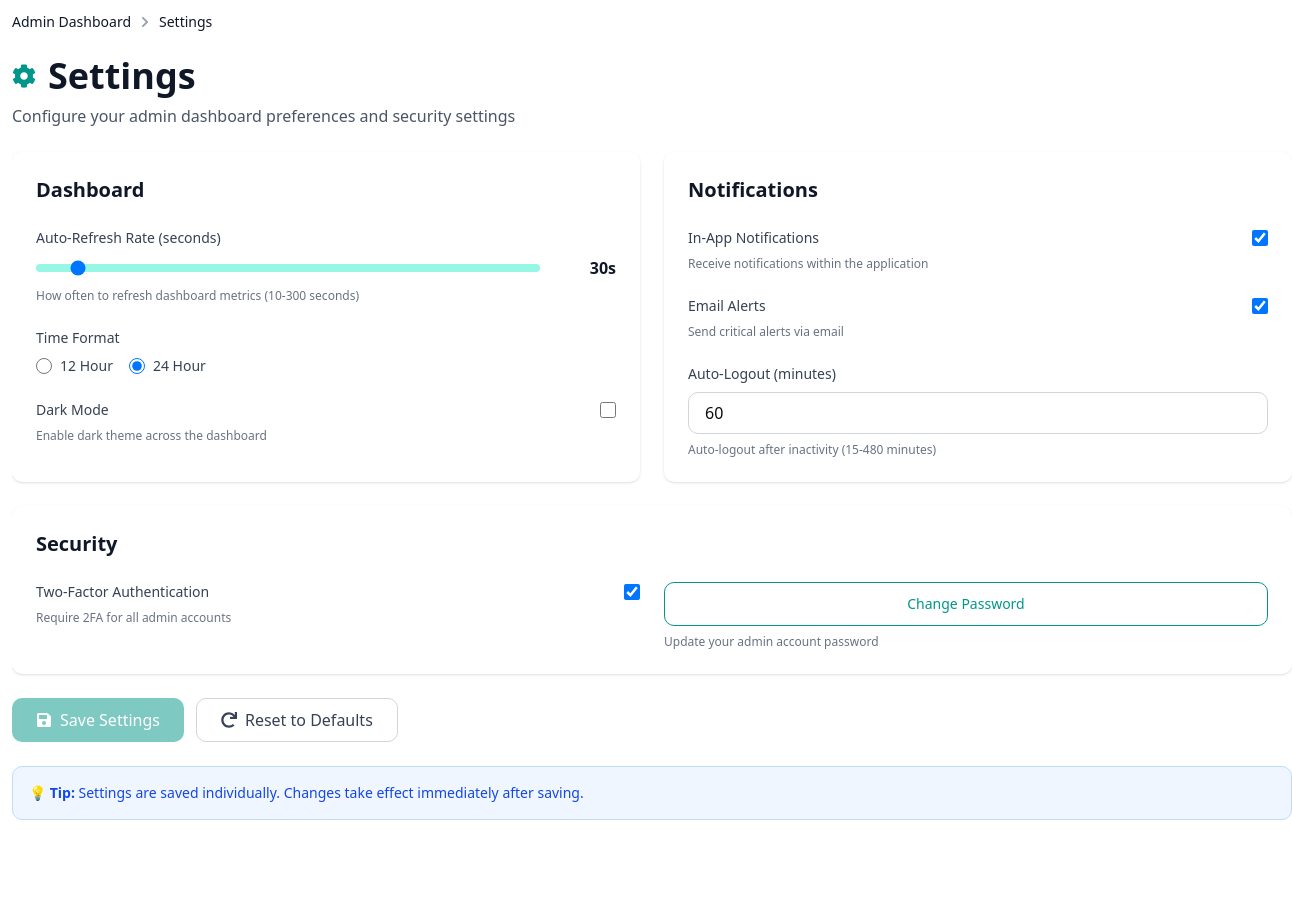
Test case: AdminSettings Component › Reset Functionality › reset button resets settings
Set the slider to "60": point(128, 268) [36,264,540,272]
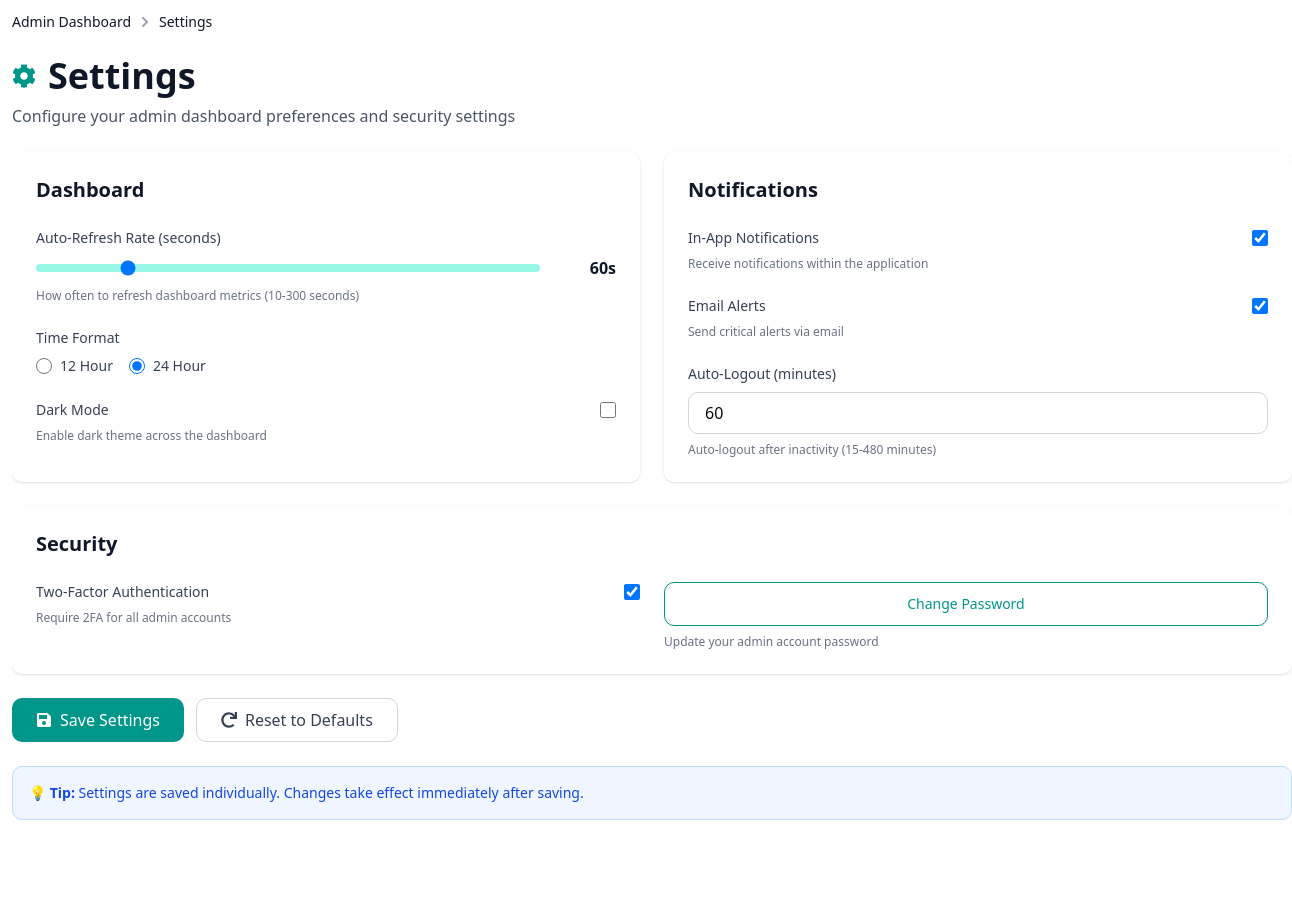
Click the button with aria-label "reset all settings": point(297, 720) [196,698,398,742]
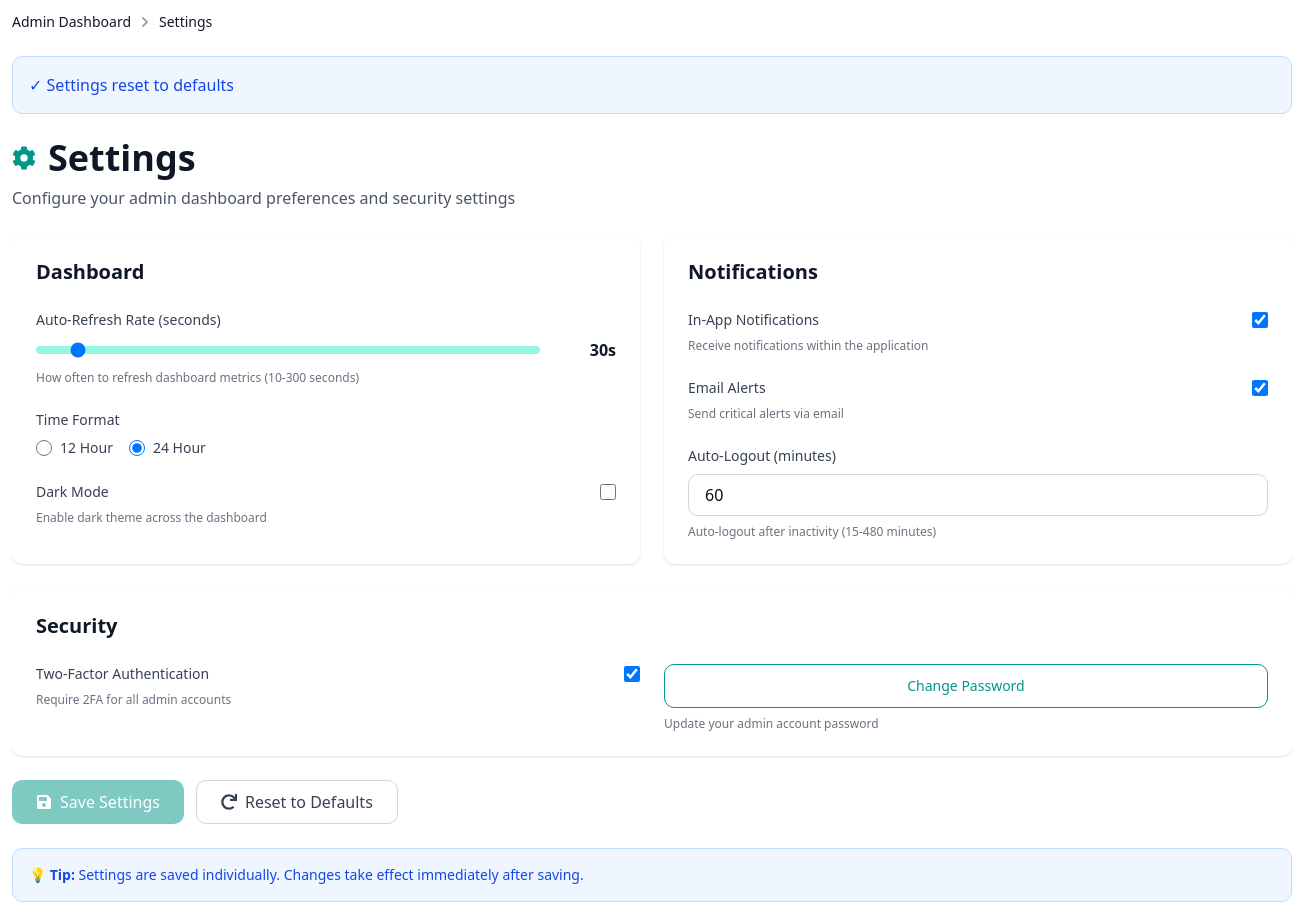
Expected: the slider holds "30", [36,346,540,354]
